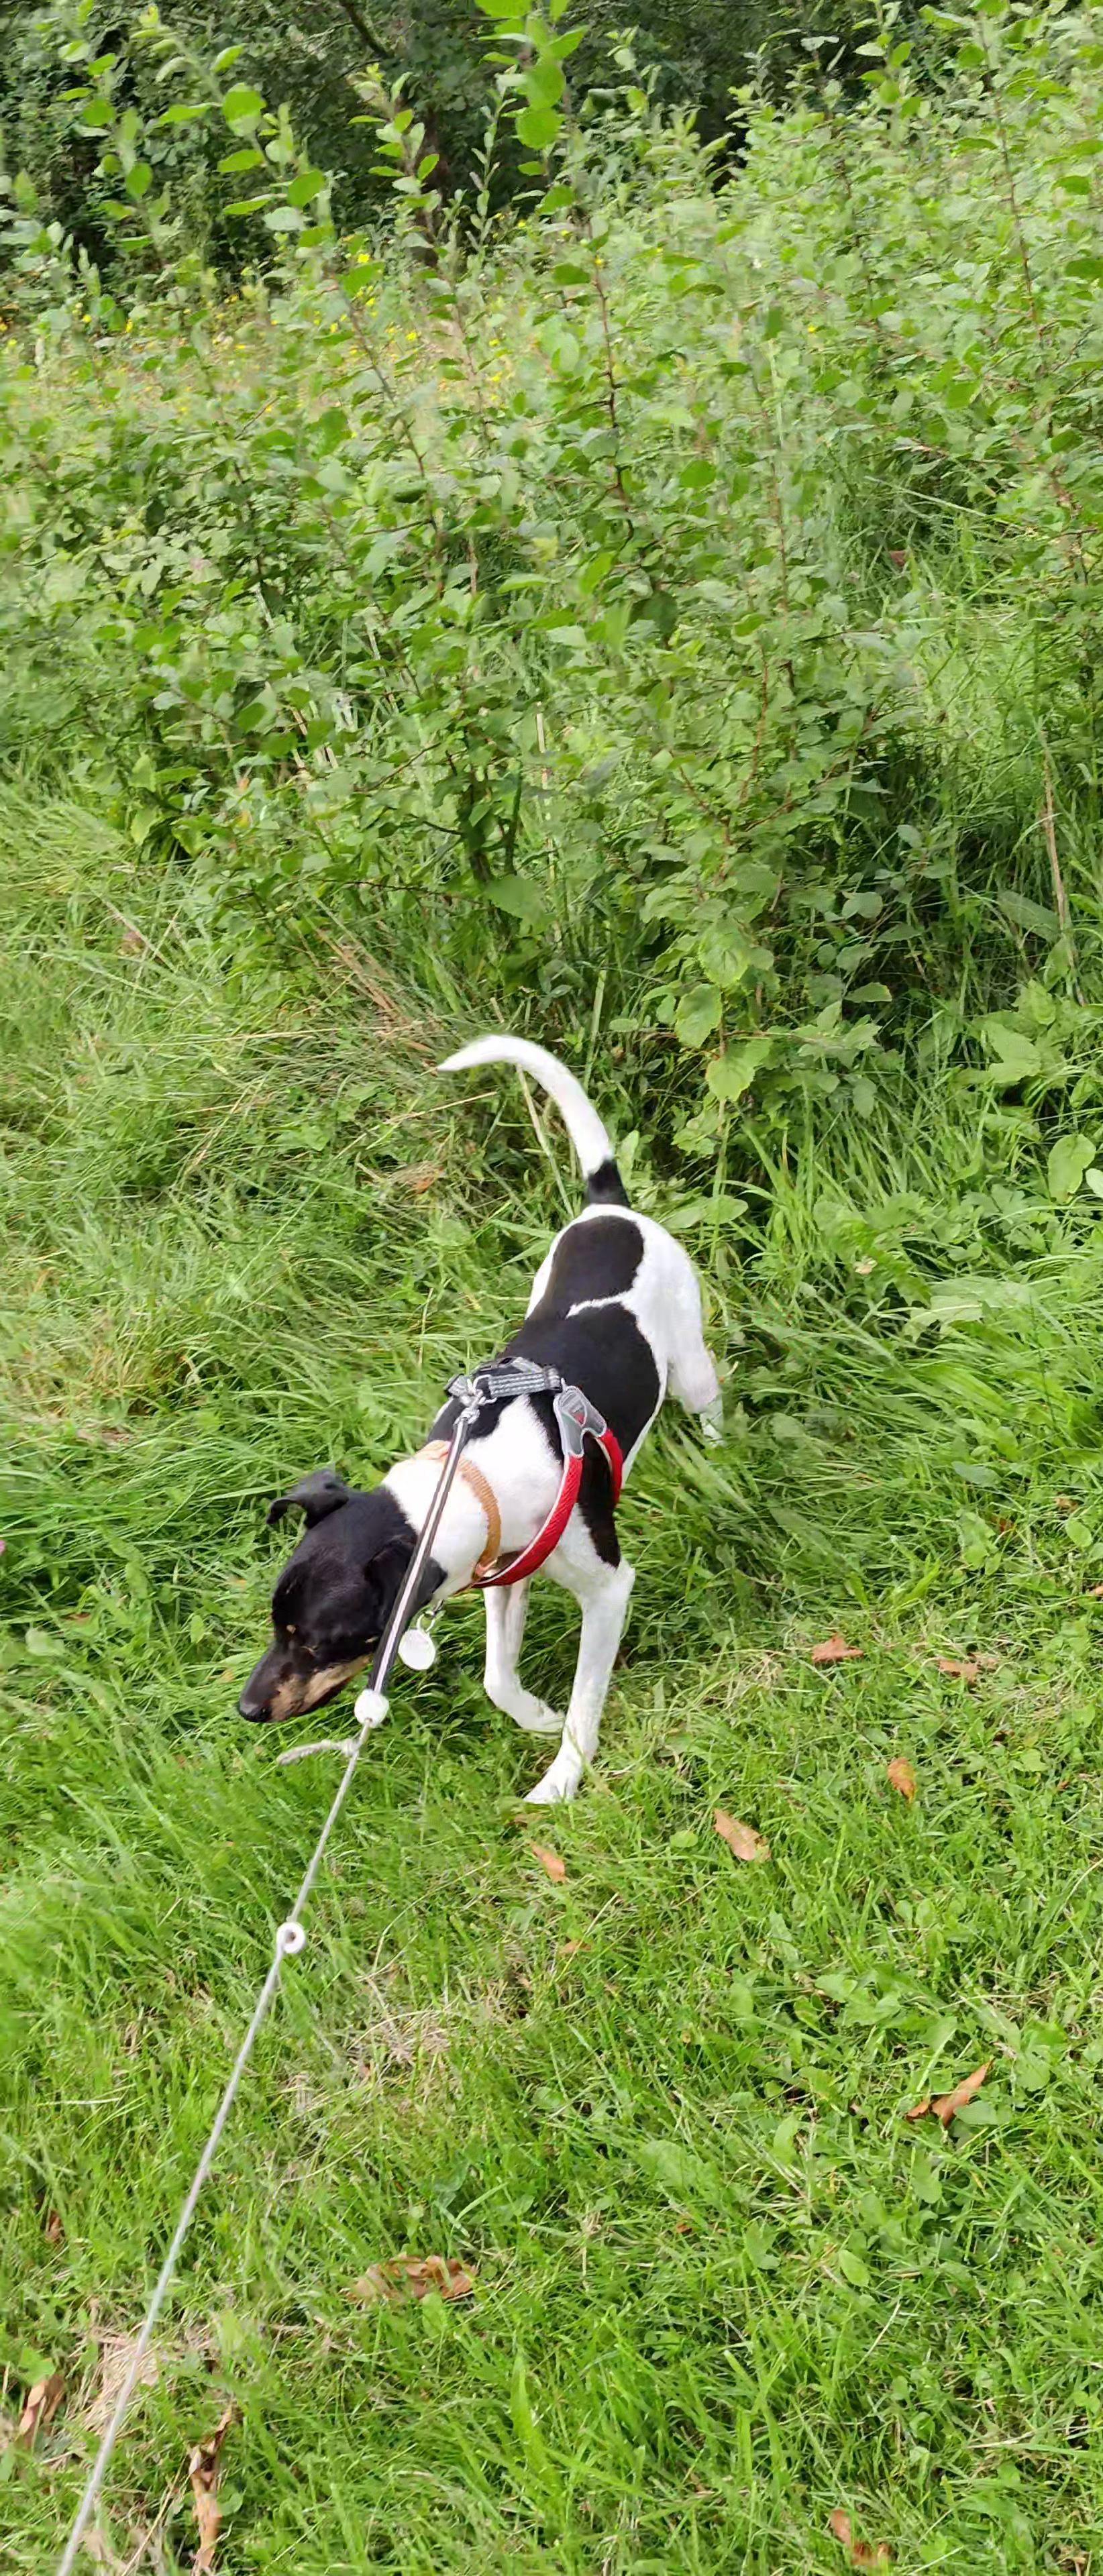Dog: (212, 974, 781, 1870)
